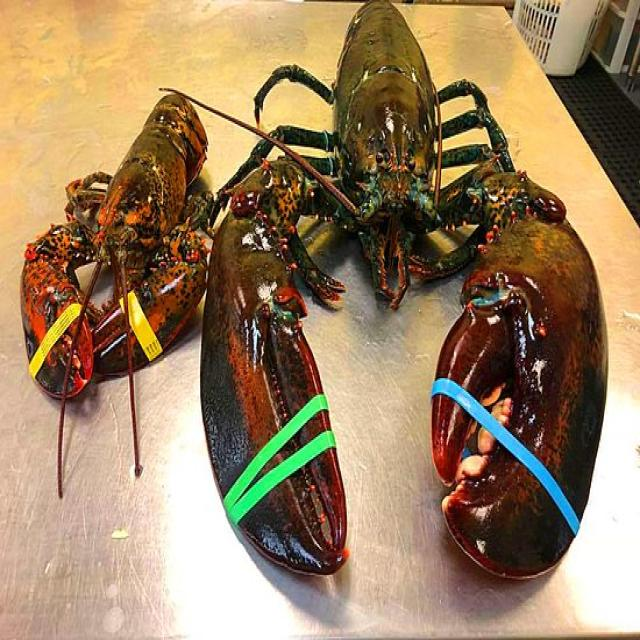Lobster: (201, 2, 607, 577), (21, 97, 209, 497)
